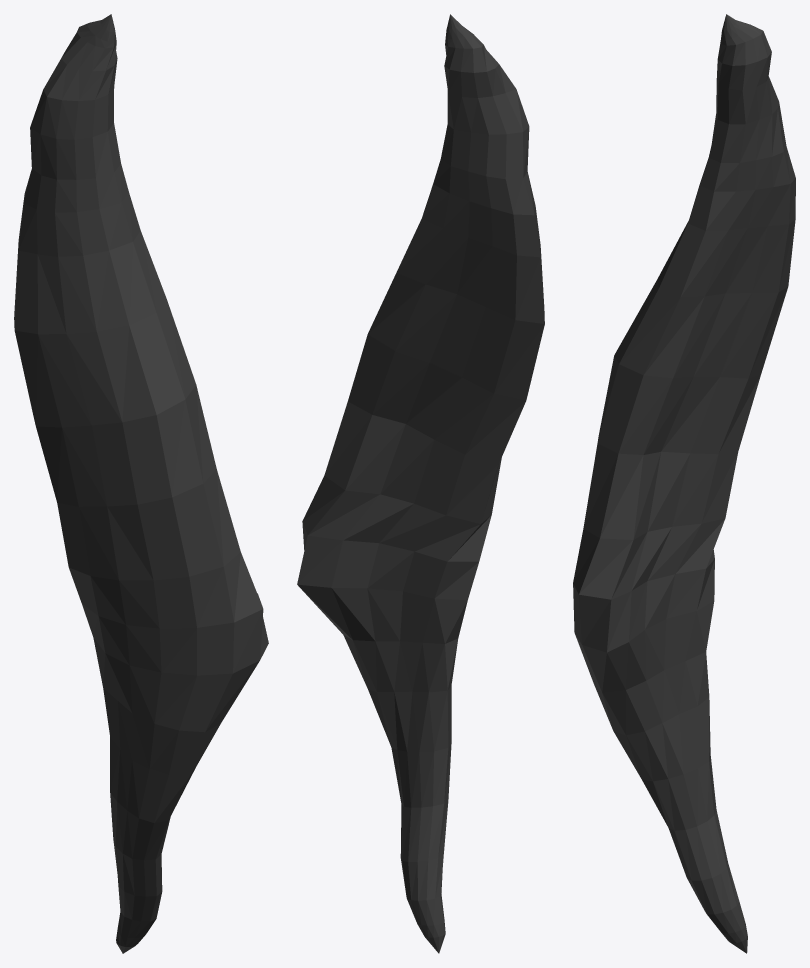
Rendered from Sartorius.glb.
The picture shows the model from 3 angles, left to right: view 1: azimuth 30°, elevation 25°; view 2: azimuth 210°, elevation 25°; view 3: azimuth 270°, elevation 25°; orthographic projection. The views are drawn at different scales.
Parts seen in each view (by area): view 1: Sartorius; view 2: Sartorius; view 3: Sartorius.
Part boxes in pixels (bbox=[...]): Sartorius: bbox=[14, 14, 268, 953]; Sartorius: bbox=[297, 14, 544, 953]; Sartorius: bbox=[573, 14, 795, 953].
Bounding box in the file's own units: 2.06 × 10.67 × 2.32.
1 material, 1 textured.
